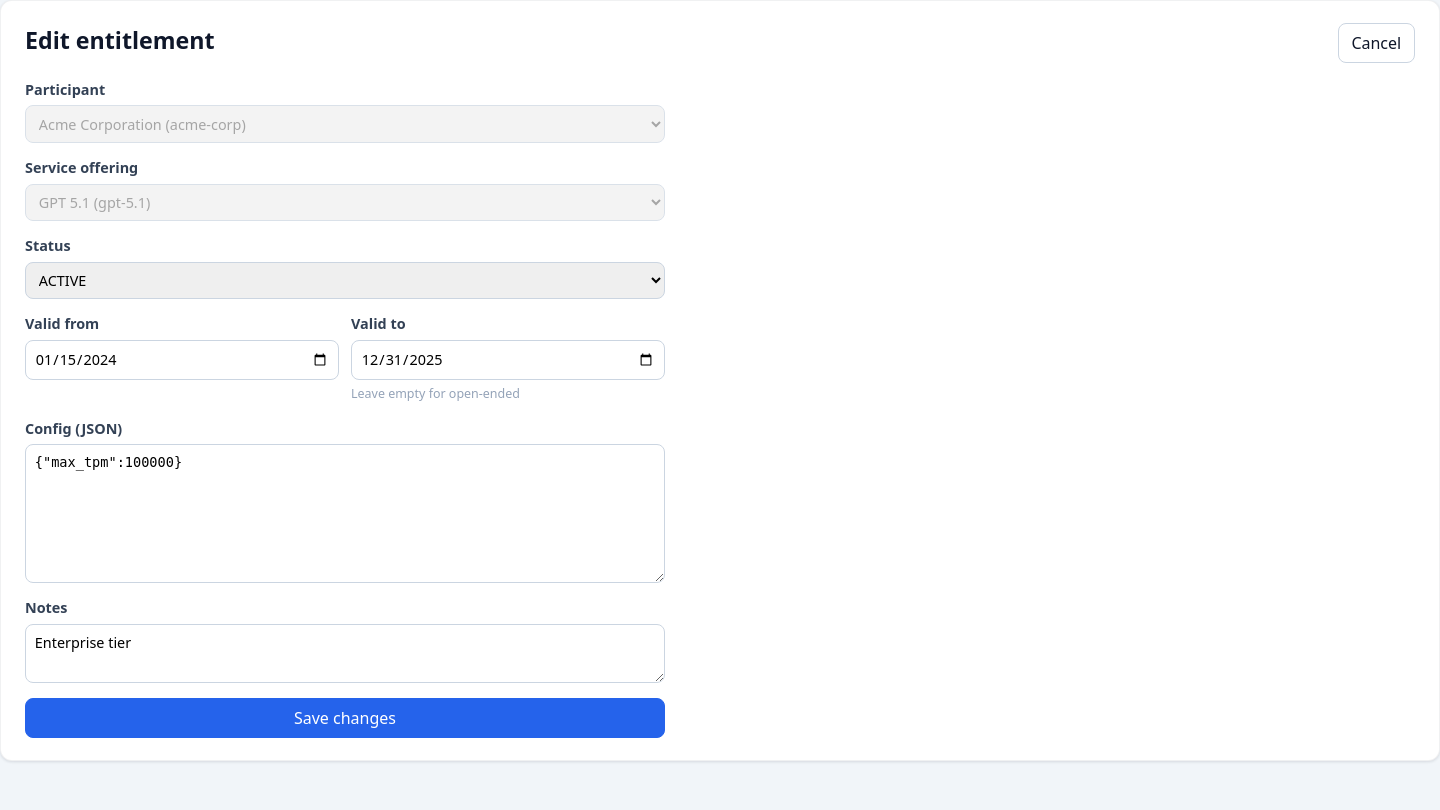
Test case: Entitlement pages › shows form update API error
The width and height of the screenshot is (1440, 810).
Expected: the text box showing "Enterprise tier" is shown, [25,624,665,683]
Click the button "Save changes": (345, 718) [25,698,665,738]
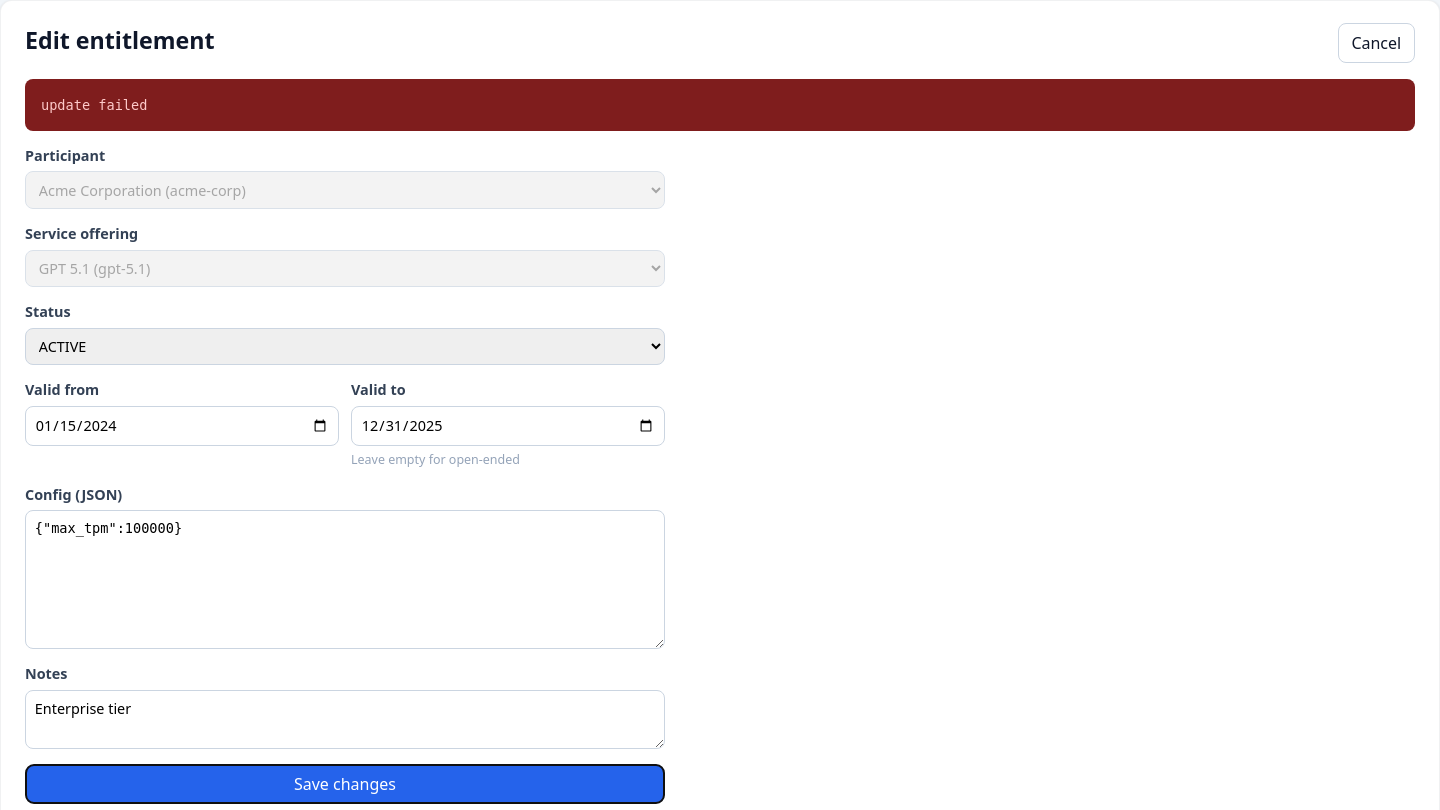
Expected: the text "update failed" is shown, [25,79,1415,131]
